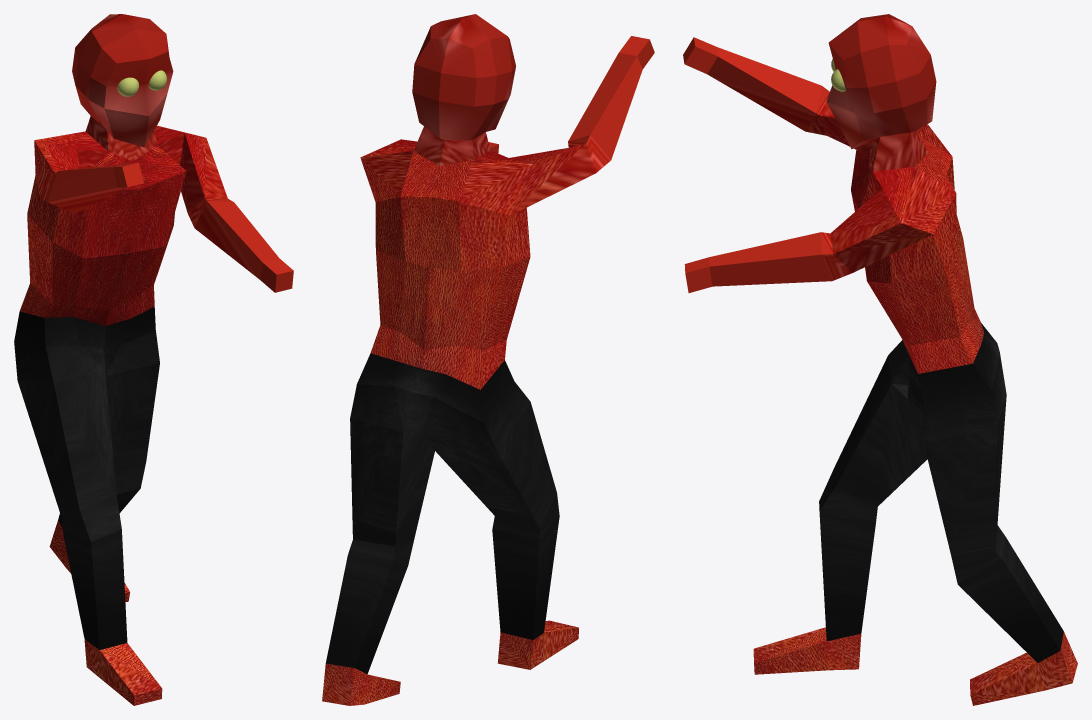
File: laySheary_000003.obj
3 renders of one model, left to right at view 1: azimuth 30°, elevation 25°; view 2: azimuth 150°, elevation 25°; view 3: azimuth 270°, elevation 25°, orthographic. The views are drawn at different scales.
Parts seen in each view (by area): view 1: Cube; view 2: Cube; view 3: Cube.
Part boxes in pixels (bbox=[...]): Cube: bbox=[14, 14, 293, 705]; Cube: bbox=[322, 14, 654, 705]; Cube: bbox=[683, 14, 1077, 705].
Size of the model in its own units: 5.27 by 15.88 by 8.48.
Materials: 3 (2 with a texture image).
